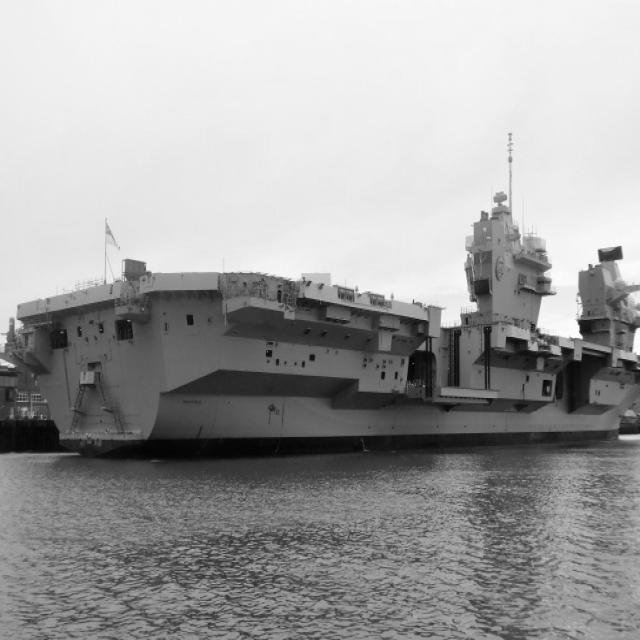Portanaves: (1, 141, 640, 459)
